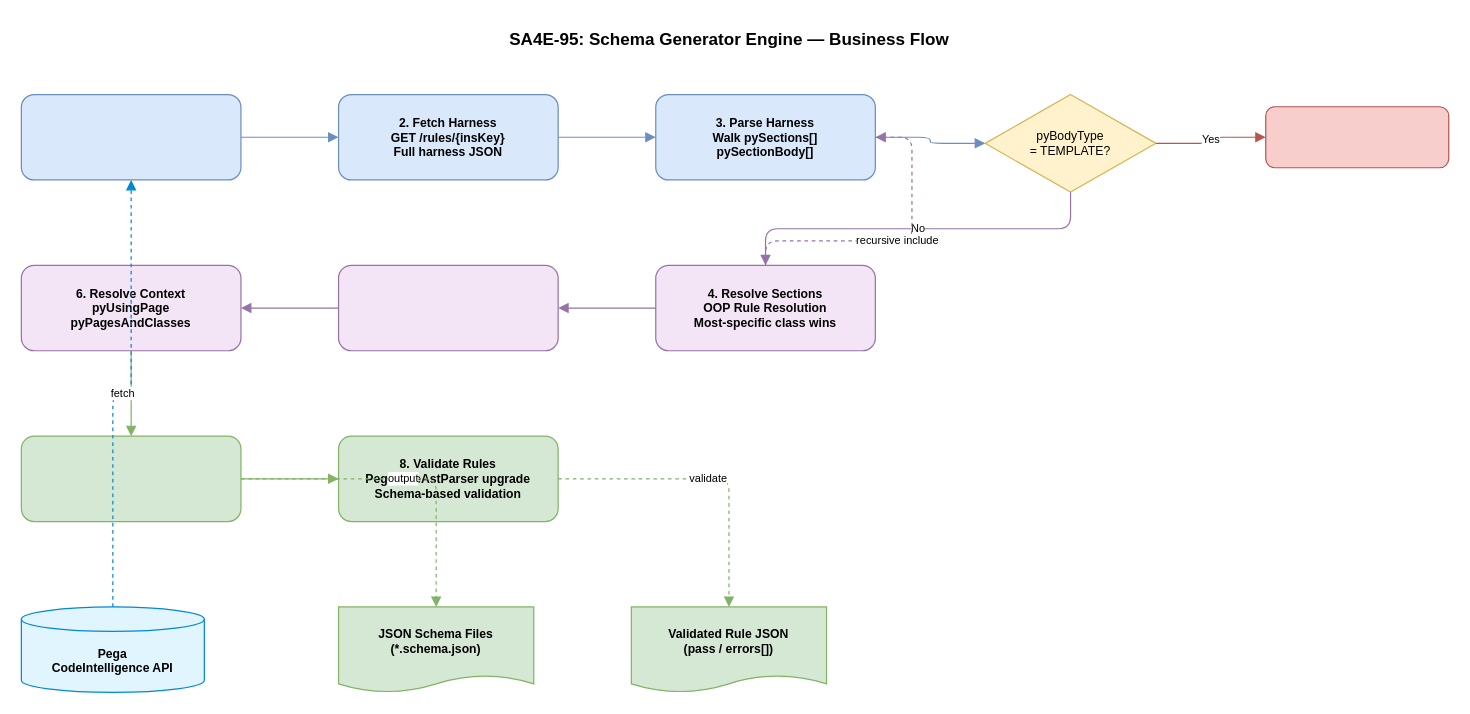
This 1470x714 diagram has some shape labels left out. The shapes that lost their labels are listed below. From the top down, each one's centre as x and y in pixels, then its label:
At (130,136): "1. Discovery Query Pega API listRules (RuleForm)".
At (1357,137): "Skip + Log x-template-layout".
At (447,307): "5. Extract Fields pyValue = property pyFormat = type".
At (130,478): "7. Generate Schema JSON Schema per rule type (properties, types, required)".
